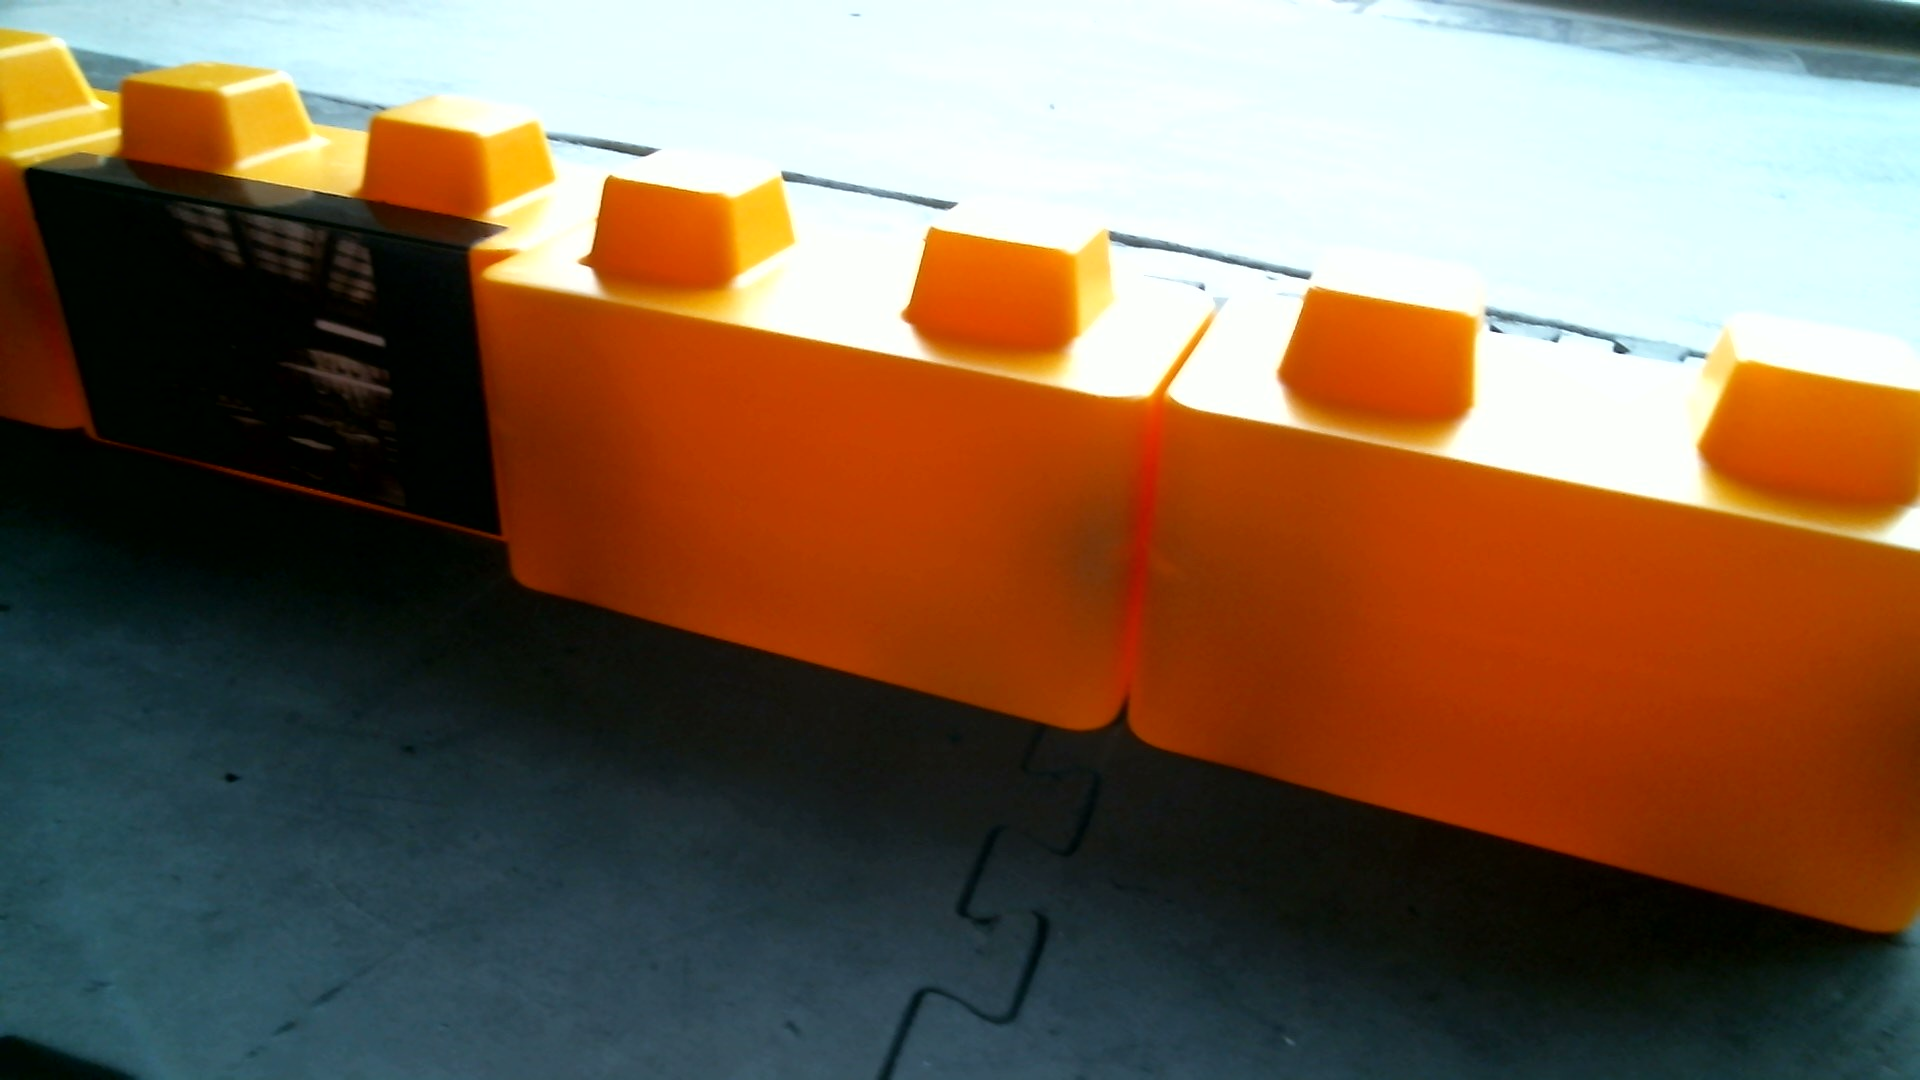left: (30, 44, 1920, 938)
